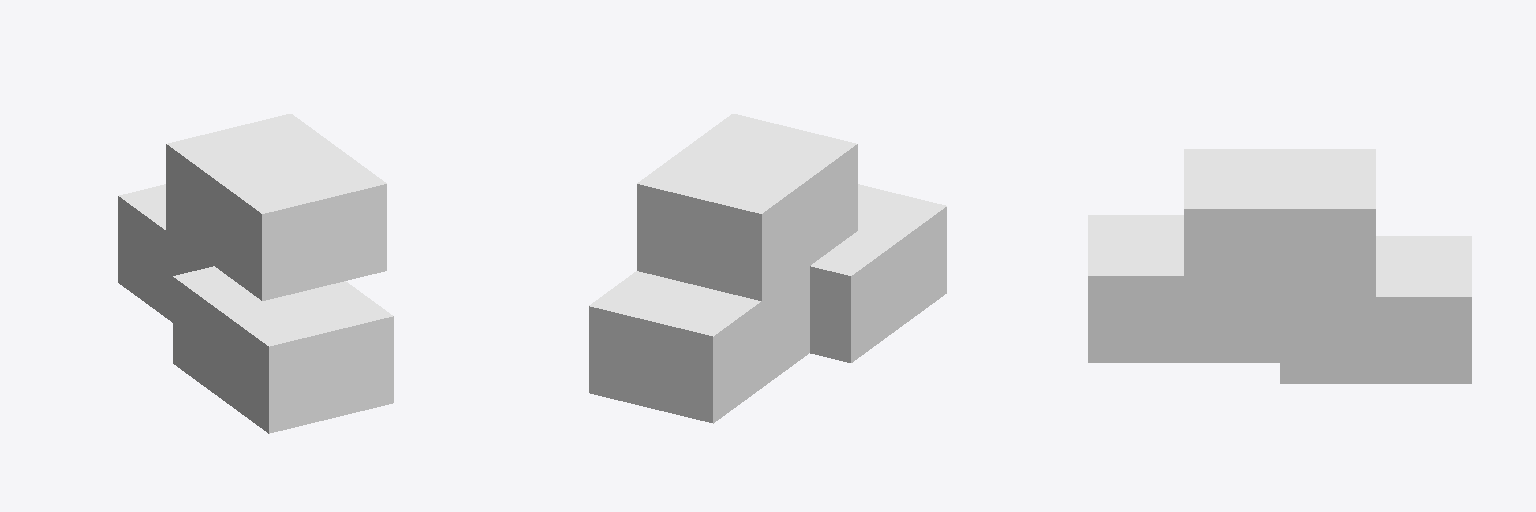
Rendered from SH_Enviorment-3-SandbagsA.obj.
3 views of the same model, side by side, from view 1: azimuth 30°, elevation 25°; view 2: azimuth 150°, elevation 25°; view 3: azimuth 270°, elevation 25° (orthographic).
Parts seen in each view (by area): view 1: SandbagsA; view 2: SandbagsA; view 3: SandbagsA.
Boxes of the visible parts, x1,y1,x2,y2 form: SandbagsA: [118, 114, 393, 433]; SandbagsA: [589, 114, 946, 423]; SandbagsA: [1088, 149, 1471, 383].
Bounding box in the file's own units: 0.4 × 0.4 × 0.8.